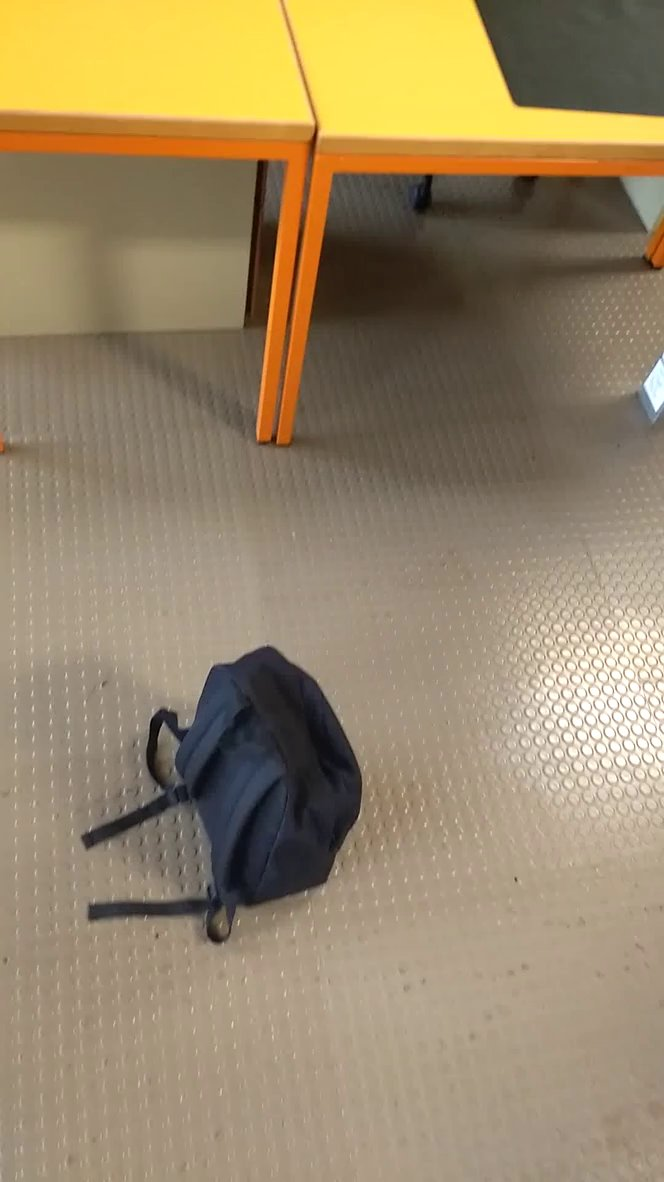bag: (79, 630, 375, 956)
